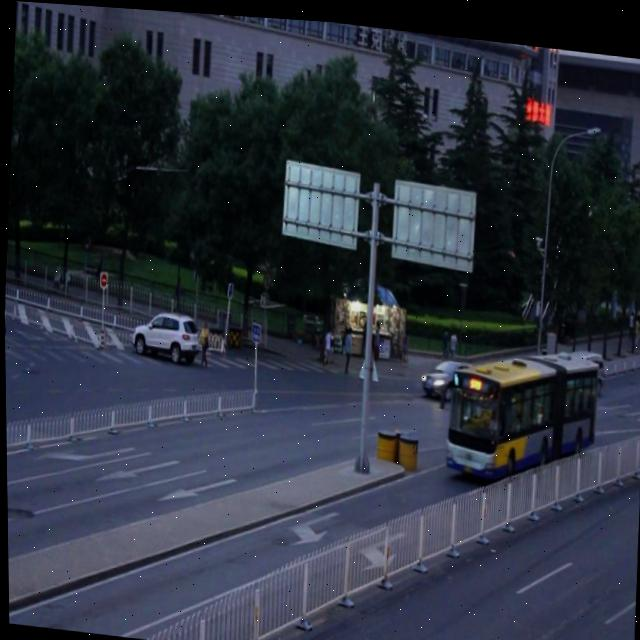car: (131, 304, 201, 363), (418, 352, 467, 390)
van: (444, 334, 597, 481)
